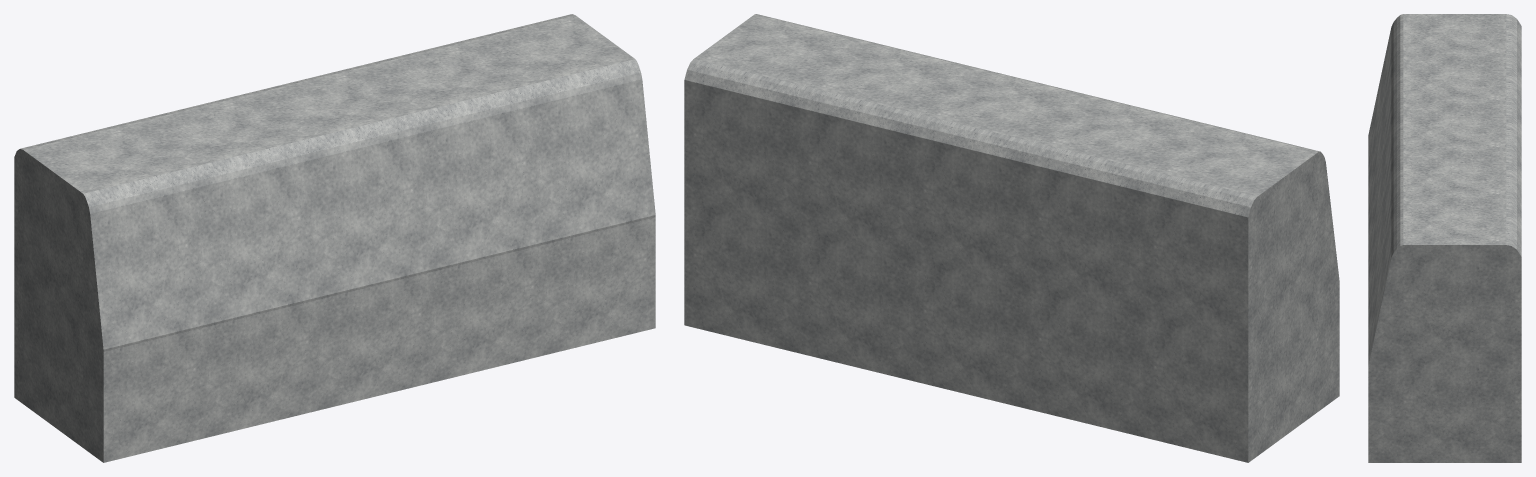
Rendered from concrete-garden-curb-rounded-tapered.glb.
The picture shows the model from 3 angles, left to right: view 1: azimuth 30°, elevation 25°; view 2: azimuth 150°, elevation 25°; view 3: azimuth 270°, elevation 25°; orthographic projection. The views are drawn at different scales.
Visible parts, largest first — view 1: concrete-garden-curb-rounded-tapered; view 2: concrete-garden-curb-rounded-tapered; view 3: concrete-garden-curb-rounded-tapered.
Boxes of the visible parts, left/top/right/bottom form: concrete-garden-curb-rounded-tapered: left=14, top=14, right=655, bottom=462; concrete-garden-curb-rounded-tapered: left=684, top=14, right=1339, bottom=462; concrete-garden-curb-rounded-tapered: left=1368, top=14, right=1521, bottom=462.
Size of the model in its own units: 0.5 by 0.22 by 0.14.
Materials: 1 (1 with a texture image).
